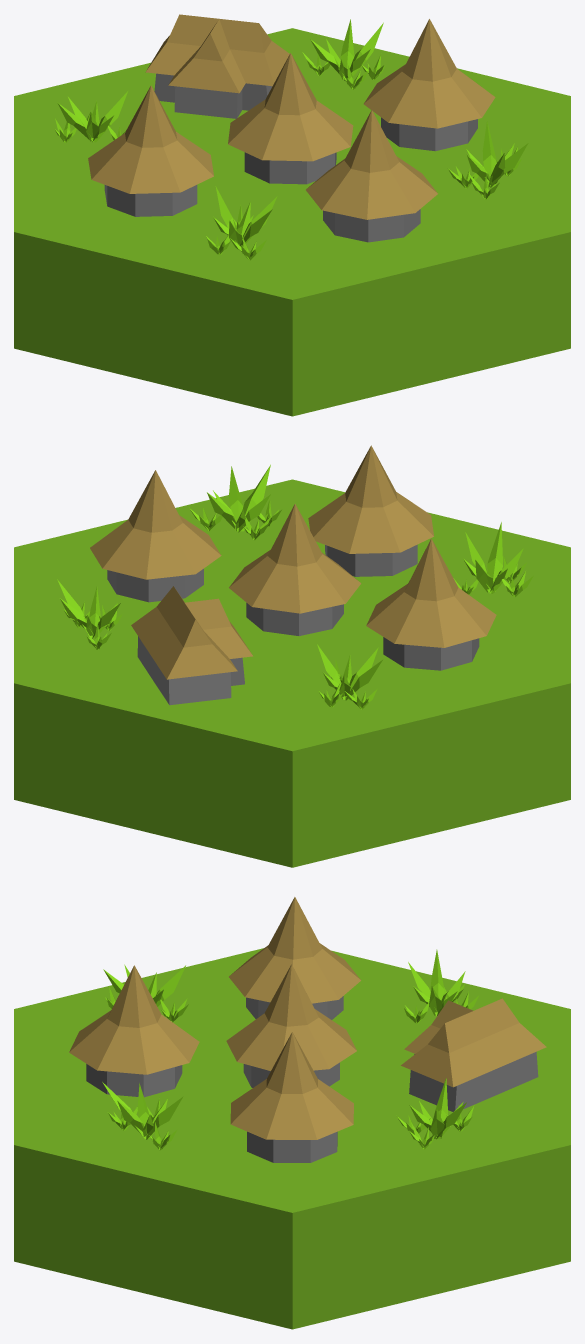
File: Casas_03.fbx
3 renders of one model, top to bottom at view 1: azimuth 30°, elevation 25°; view 2: azimuth 150°, elevation 25°; view 3: azimuth 270°, elevation 25°, orthographic.
Visible parts, largest first — view 1: Casas_03; view 2: Casas_03; view 3: Casas_03.
Part boxes in pixels (box(x1,y1,x2,y2)): Casas_03: box(14, 14, 570, 416); Casas_03: box(14, 445, 570, 867); Casas_03: box(14, 897, 570, 1329).
Bounding box in the file's own units: 200 × 78.5 × 173.
